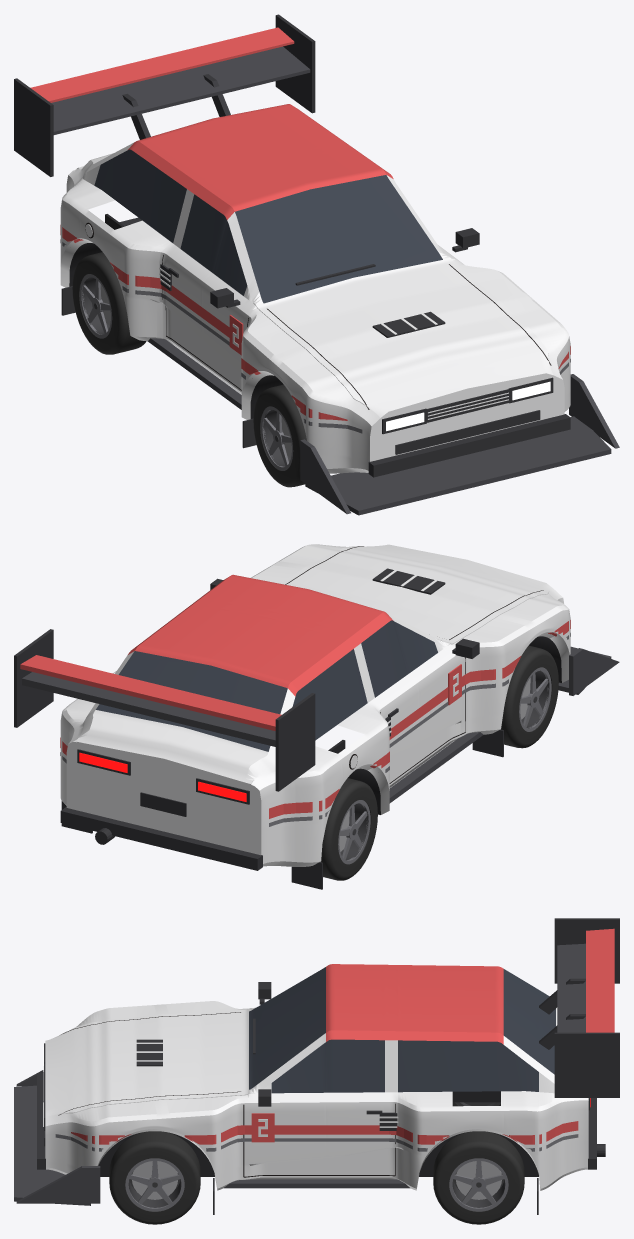
The model's file is rally1-crossover.glb.
3 renders of one model, top to bottom at view 1: azimuth 30°, elevation 25°; view 2: azimuth 150°, elevation 25°; view 3: azimuth 270°, elevation 25°, orthographic. The views are drawn at different scales.
Parts seen in each view (by area): view 1: Body, Wheel_RR, Wheel_FR; view 2: Body, Wheel_FR, Wheel_RR; view 3: Body, Wheel_FL, Wheel_RL.
Part boxes in pixels (left/top/right/bottom): Body: left=14, top=14, right=619, bottom=515; Wheel_RR: left=72, top=252, right=146, bottom=354; Wheel_FR: left=253, top=384, right=306, bottom=487; Body: left=14, top=544, right=619, bottom=889; Wheel_FR: left=501, top=645, right=558, bottom=748; Wheel_RR: left=320, top=778, right=377, bottom=880; Body: left=14, top=918, right=619, bottom=1214; Wheel_FL: left=109, top=1131, right=200, bottom=1224; Wheel_RL: left=433, top=1131, right=524, bottom=1224.
Bounding box in the file's own units: 2.16 × 1.64 × 4.64.
